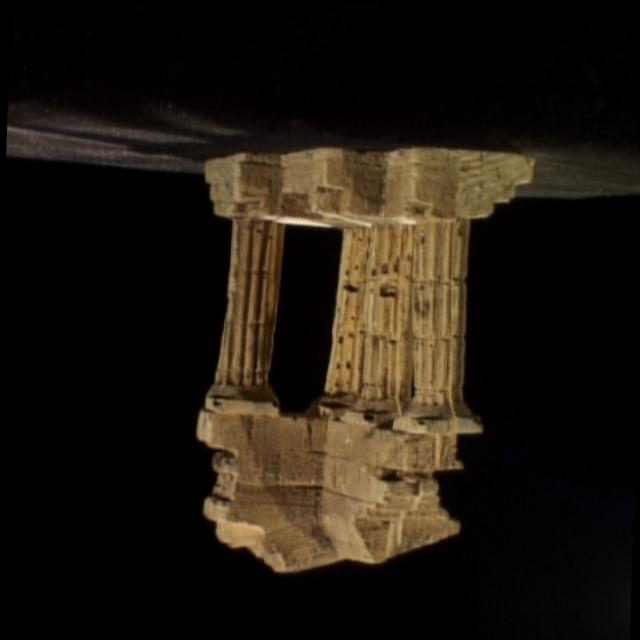Instance-Segmentation: (199, 147, 534, 570)
